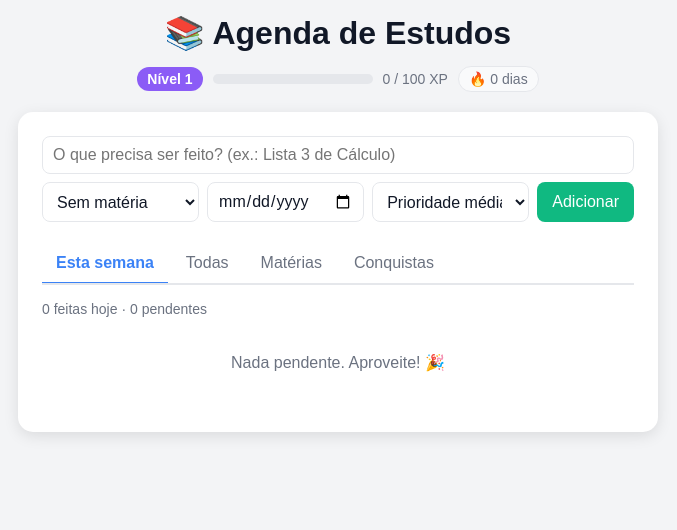
Test: edita e exclui tarefa
Type "Ler capitulo" into the field named "Nome da tarefa" at point(338, 155), box [42,136,634,174]
Then press Enter
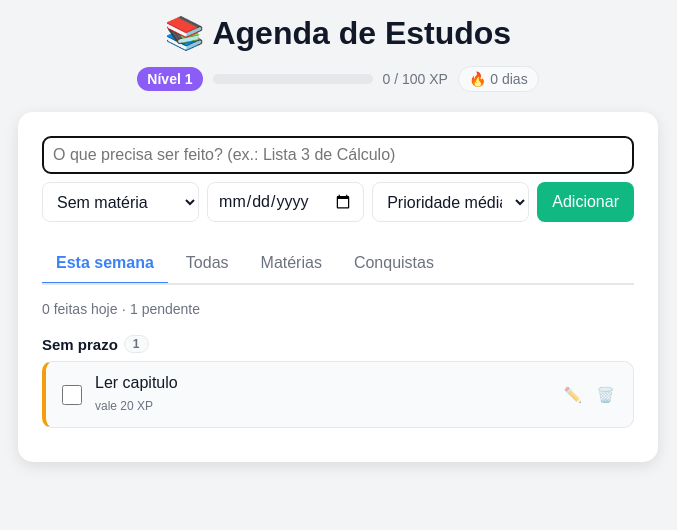
Click the button named "Editar Ler capitulo" at point(573, 394), box [558,382,588,408]
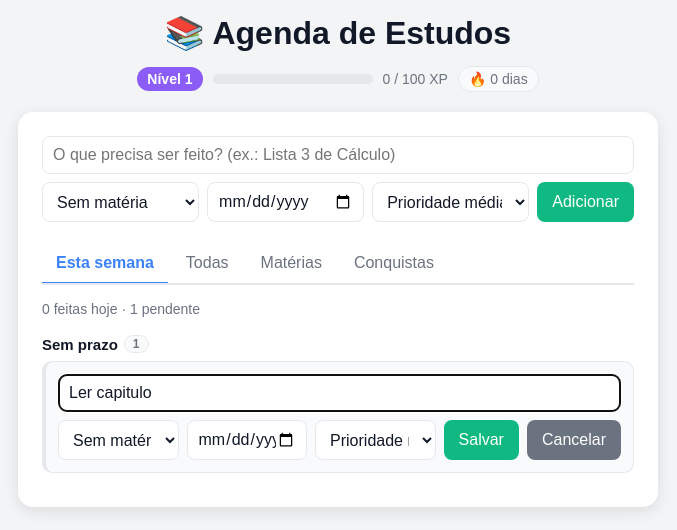
Replace the text in the field named "Nome da tarefa" with "Ler capítulo 4" at point(340, 393), box [58,374,621,412]
Then press Enter
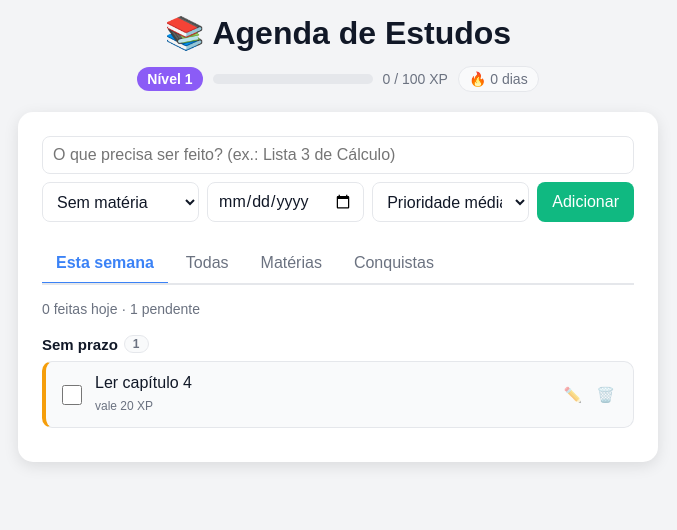
Check: the text "Ler capítulo 4" is shown, box [95,374,192,391]
Click the button named "Excluir Ler capítulo 4" at point(606, 394), box [590,382,621,408]
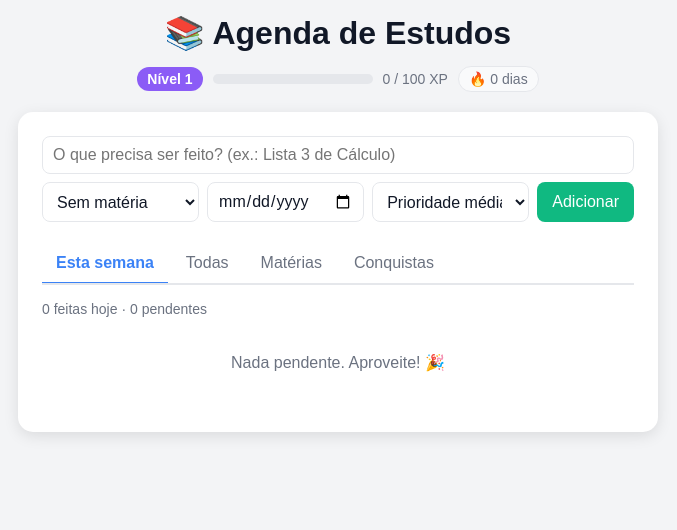
Check: the text "Ler capítulo 4" is gone
